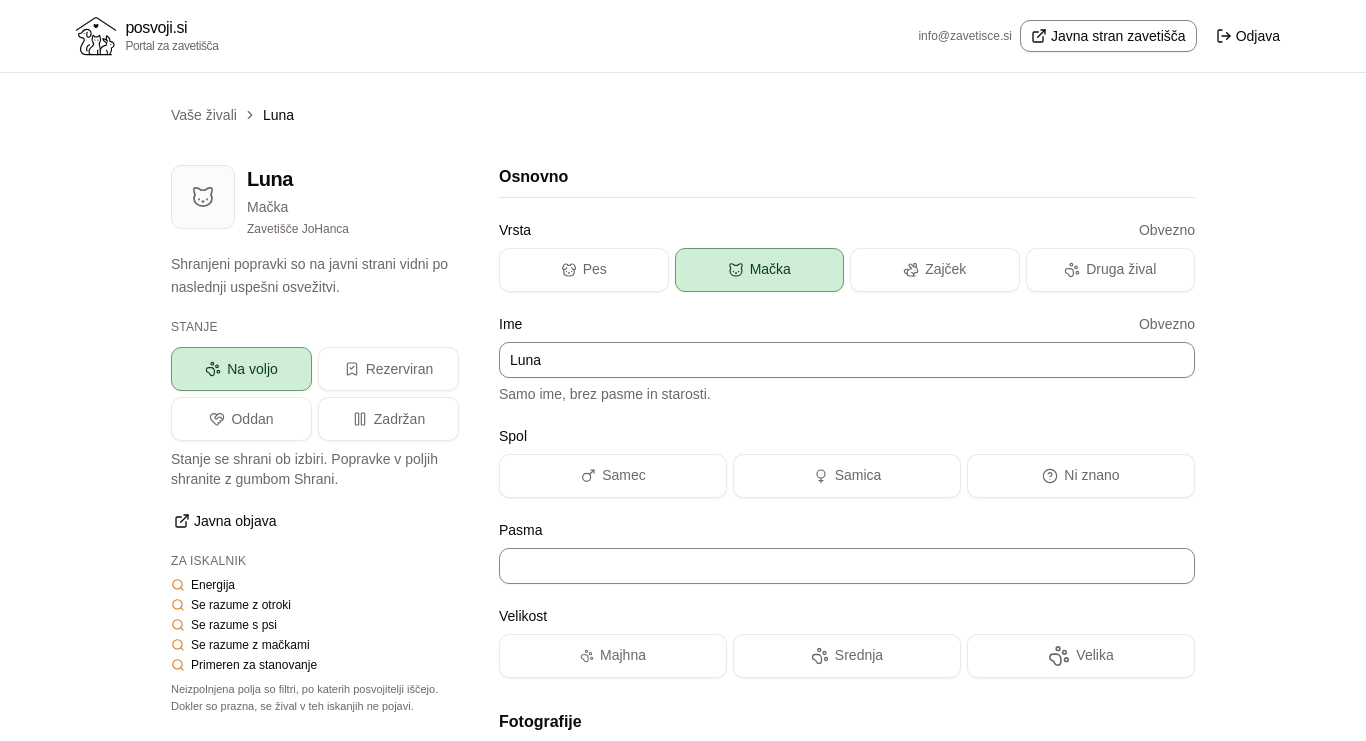
Test: editing a listing › shows the save that did not go through, once it has tried one
Expected: the text "Shranjevanje ni uspelo. Poskusite znova." is not shown
Replace the text in the field labelled "Ime" with "Lunica": (847, 360) [499, 342, 1195, 378]
(page scrolled)
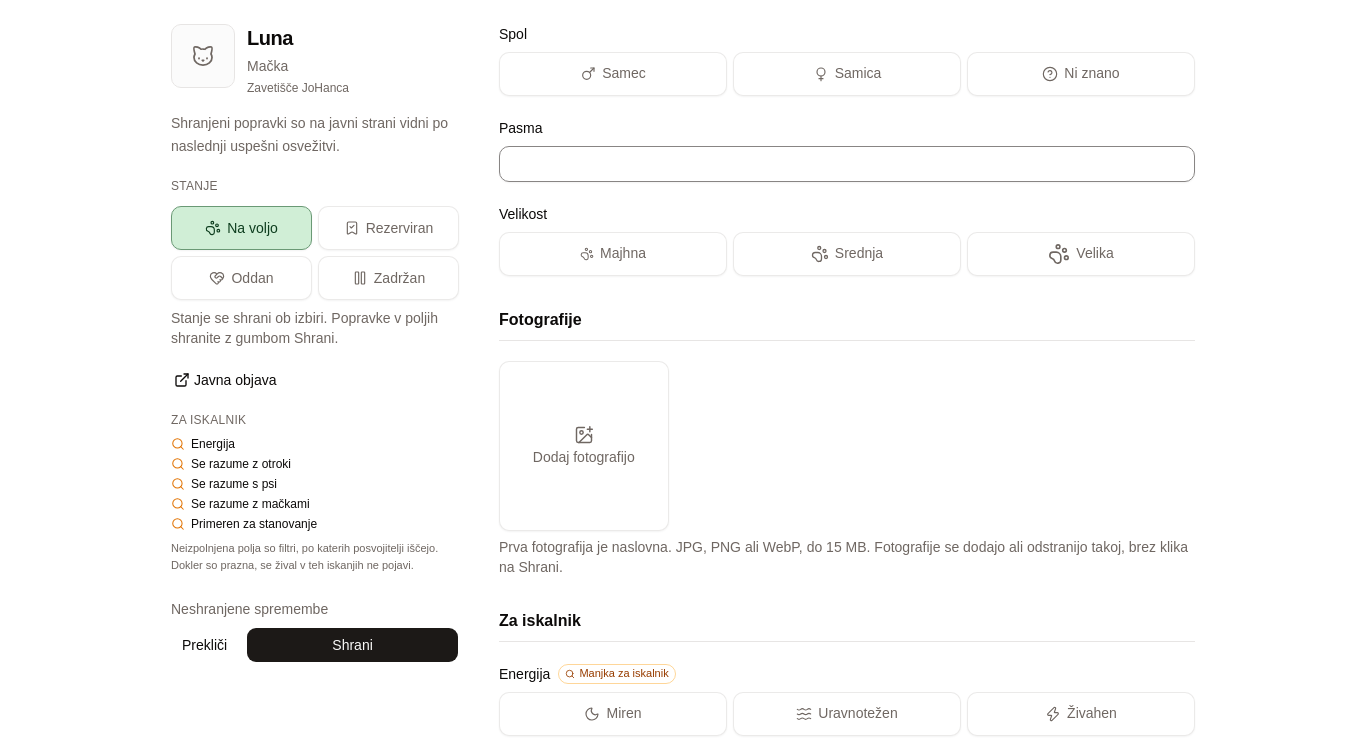
Click the button "Shrani": (353, 645) [246, 627, 459, 663]
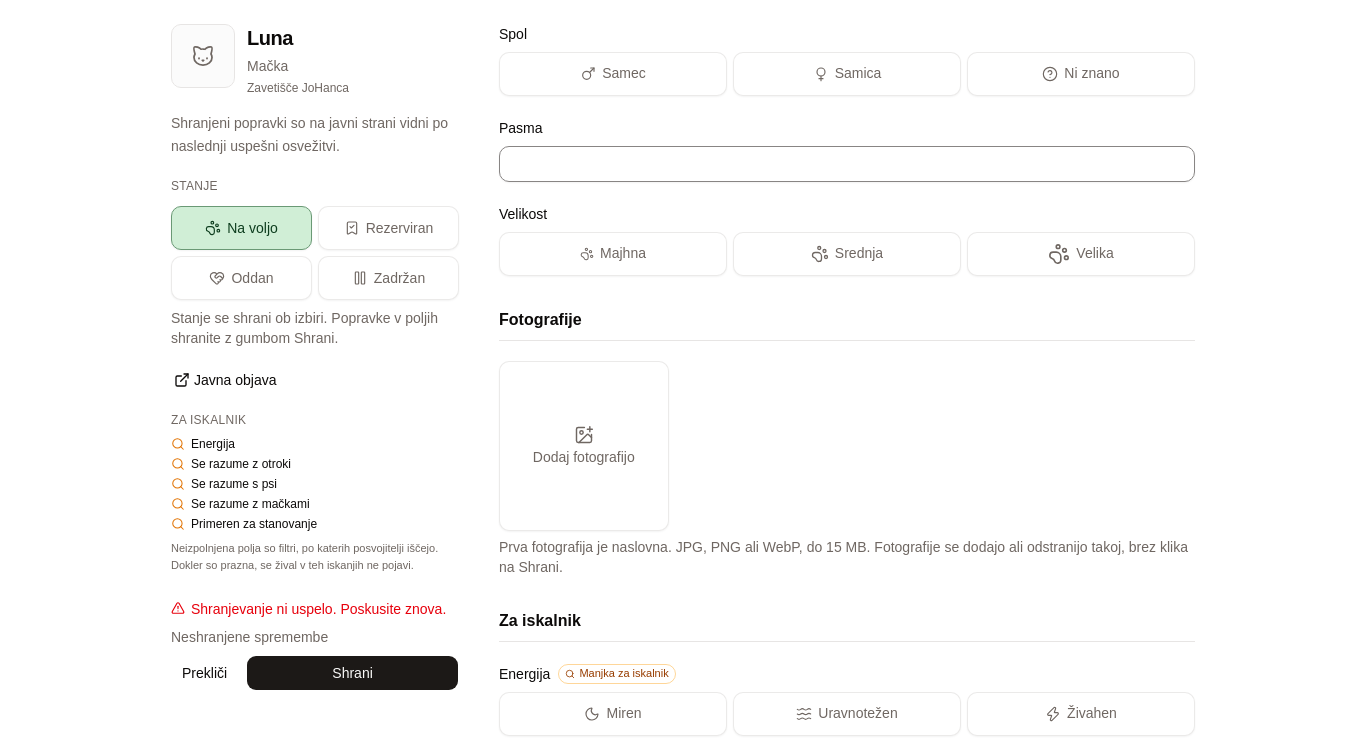
Now the message "Shranjevanje ni uspelo. Poskusite znova." is shown, box [171, 599, 459, 619]
